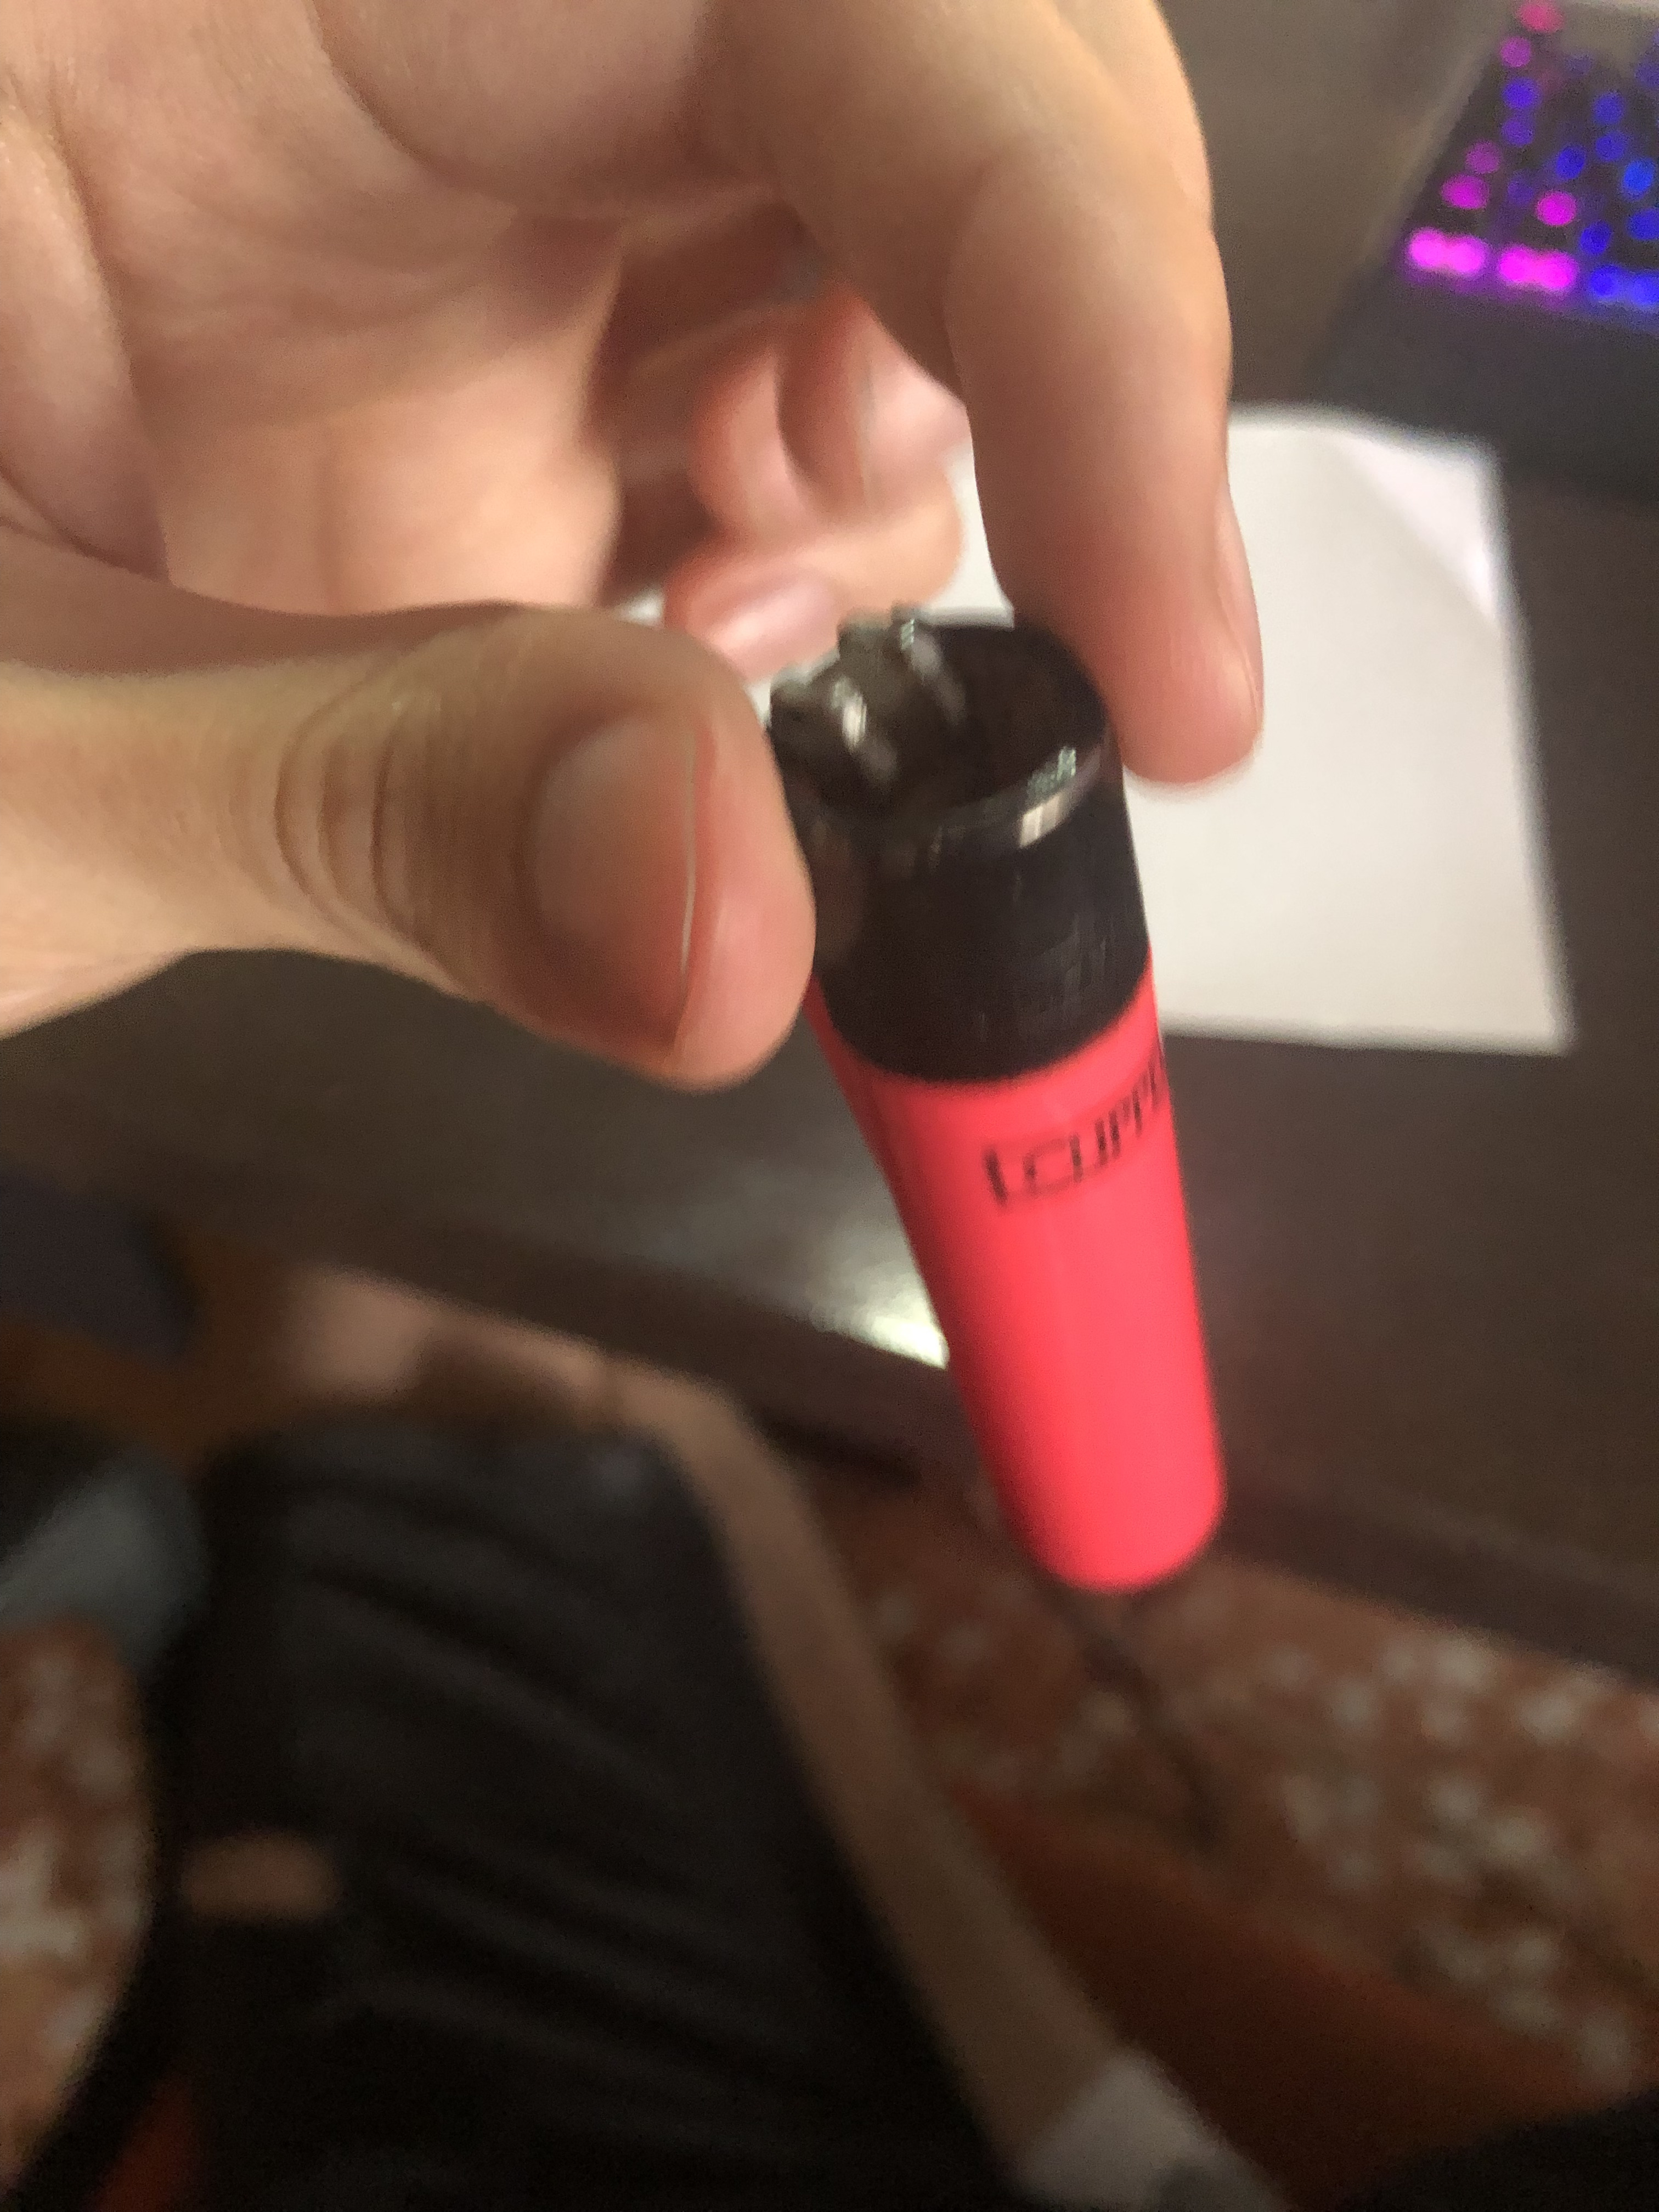Mechero: (744, 643, 1269, 1601)
